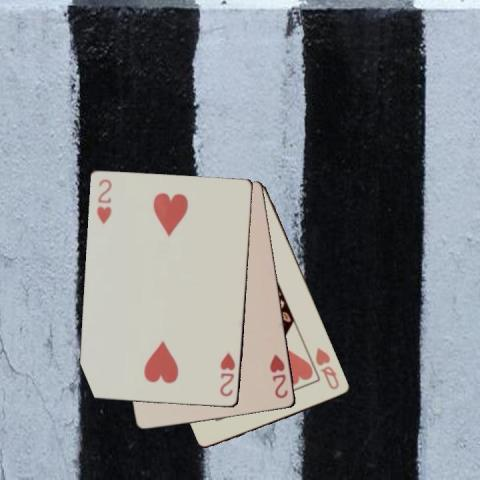2h: (267, 352, 290, 400), (94, 176, 113, 227), (218, 350, 237, 398)
Qh: (313, 345, 341, 391)
